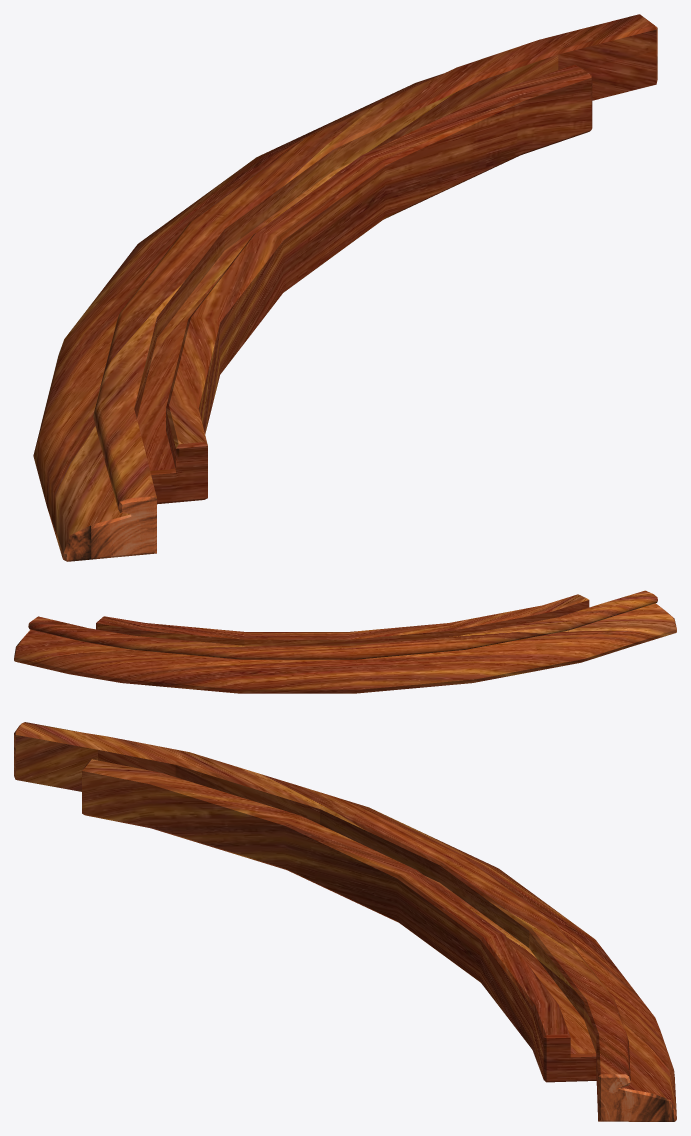
The model's file is yuandeng_J_D_yaxian_4.FBX.
The picture shows the model from 3 angles, top to bottom: view 1: azimuth 30°, elevation 25°; view 2: azimuth 150°, elevation 25°; view 3: azimuth 270°, elevation 25°; orthographic projection. The views are drawn at different scales.
Parts seen in each view (by area): view 1: yuandeng_J_D_yaxian_4; view 2: yuandeng_J_D_yaxian_4; view 3: yuandeng_J_D_yaxian_4.
Part boxes in pixels (x1=…): yuandeng_J_D_yaxian_4: x1=33, y1=14, x2=657, y2=561; yuandeng_J_D_yaxian_4: x1=14, y1=590, x2=676, y2=693; yuandeng_J_D_yaxian_4: x1=14, y1=722, x2=676, y2=1121.
Size of the model in its own units: 20.32 by 1.21 by 15.19.
2 materials, 2 textured.
